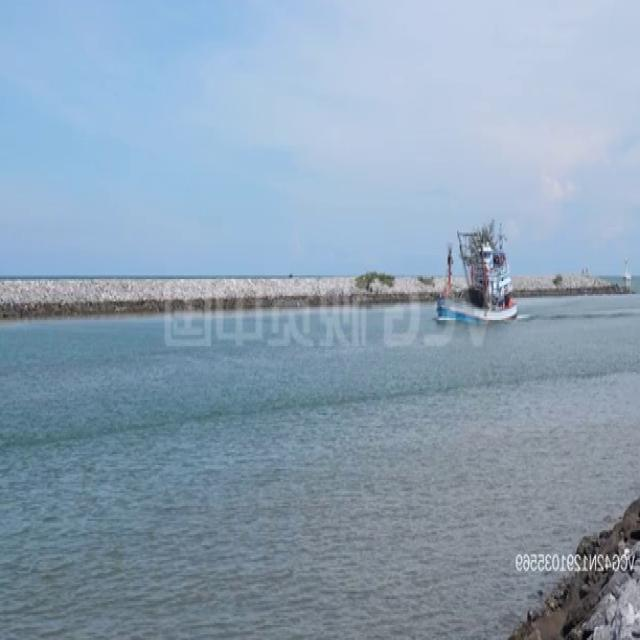fishing boat: (437, 219, 518, 326)
